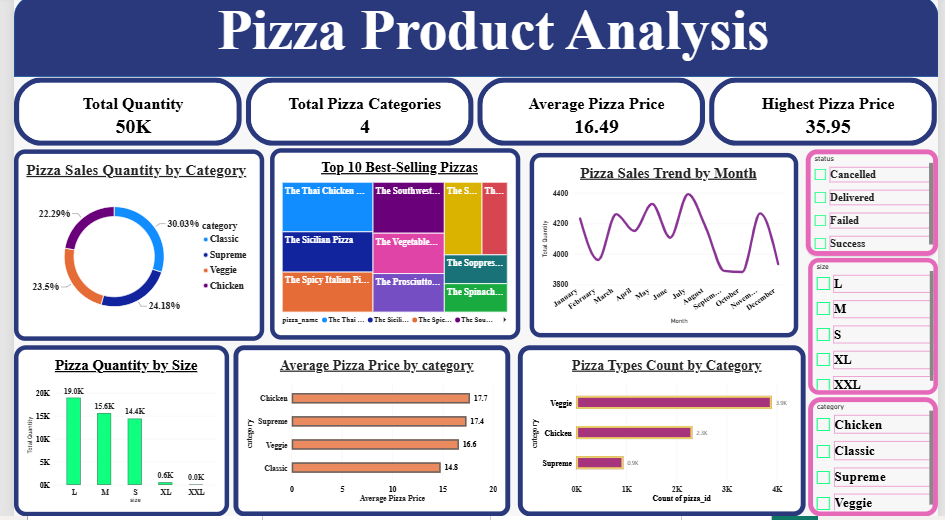

Layout of this report page (visuals, bound fields, positions):
{"tool":"powerbi","page":{"name":"Pizza Product Analysis","canvas":[1920,1080],"ordinal":2},"visuals":[{"type":"treemap","title":"Top 10 Best-Selling Pizzas","fields":{"Group":["dominos_db vw_pizzaproductdashboard.pizza_name"],"Values":["dominos_db vw_pizzaproductdashboard.Total Quantity"]},"box":[531.9,317,519.1,397.9],"z":0},{"type":"donutChart","title":"Pizza Sales Quantity by Category","fields":{"Category":["dominos_db vw_pizzaproductdashboard.category"],"Y":["dominos_db vw_pizzaproductdashboard.Total Quantity"]},"box":[0,319.1,519.1,397.9],"z":1000},{"type":"columnChart","title":"Pizza Quantity by Size","fields":{"Category":["dominos_db vw_pizzaproductdashboard.size"],"Y":["dominos_db vw_pizzaproductdashboard.Total Quantity"]},"box":[0,725.5,446.8,355.3],"z":2000},{"type":"clusteredBarChart","fields":{"Category":["dominos_db vw_pizzaproductdashboard.category"],"Y":["dominos_db vw_pizzaproductdashboard.Average Pizza Price"]},"box":[455.3,725.5,574.5,355.3],"z":3000},{"type":"clusteredBarChart","title":"Pizza Types Count by Category","fields":{"Category":["dominos_db vw_pizzaproductdashboard.category"],"Y":["CountNonNull(dominos_db vw_pizzaproductdashboard.pizza_id)"]},"box":[1045,725,597.9,355.3],"z":4000},{"type":"lineChart","title":"Pizza Sales Trend by Month","fields":{"Category":["dominos_db vw_pizzaproductdashboard.order_date.Variation.Date Hierarchy.Month"],"Y":["dominos_db vw_pizzaproductdashboard.Total Quantity"]},"box":[1070.2,325.5,557.4,383],"z":5000},{"type":"slicer","fields":{"Values":["dominos_db vw_pizzaproductdashboard.status"]},"box":[1644.7,319.1,274.5,221.3],"z":6000},{"type":"slicer","fields":{"Values":["dominos_db vw_pizzaproductdashboard.size"]},"box":[1648.8,543.9,269.5,284.2],"z":7000},{"type":"slicer","fields":{"Values":["dominos_db vw_pizzaproductdashboard.category"]},"box":[1648.8,832.6,269.5,247.4],"z":8000},{"type":"cardVisual","fields":{"Data":["dominos_db vw_pizzaproductdashboard.Total Quantity","dominos_db vw_pizzaproductdashboard.Total Pizza Categories","dominos_db vw_pizzaproductdashboard.Average Pizza Price","dominos_db vw_pizzaproductdashboard.Highest Pizza Price"]},"box":[0,168.1,1919.1,142.6],"z":9000},{"type":"shape","box":[0,0,1919.1,168.1],"z":10000},{"type":"textbox","box":[108.5,2.1,1774.4,148.9],"z":11000}]}

Visuals, with their boxes in screenshot pixels (x1, y1, x2, y2), scaled from the page's 1920x1080 canvas onto the 945x520 screenshot:
"Top 10 Best-Selling Pizzas" treemap: (262,153,517,344)
"Pizza Sales Quantity by Category" donutChart: (0,154,255,345)
"Pizza Quantity by Size" columnChart: (0,349,220,519)
clusteredBarChart - dominos_db vw_pizzaproductdashboard.category x dominos_db vw_pizzaproductdashboard.Average Pizza Price: (224,349,507,519)
"Pizza Types Count by Category" clusteredBarChart: (514,349,809,519)
"Pizza Sales Trend by Month" lineChart: (527,157,801,341)
slicer - dominos_db vw_pizzaproductdashboard.status: (810,154,944,260)
slicer - dominos_db vw_pizzaproductdashboard.size: (812,262,944,399)
slicer - dominos_db vw_pizzaproductdashboard.category: (812,401,944,519)
cardVisual - dominos_db vw_pizzaproductdashboard.Total Quantity x dominos_db vw_pizzaproductdashboard.Total Pizza Categories: (0,81,944,150)
shape: (0,0,944,81)
textbox: (53,1,927,73)
